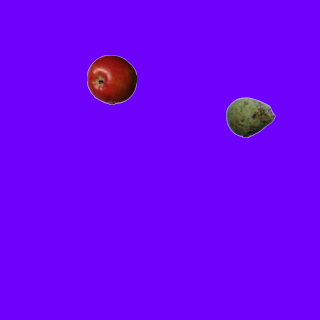Apple Braeburn: (86, 54, 136, 104)
Pear Stone: (225, 92, 275, 142)
